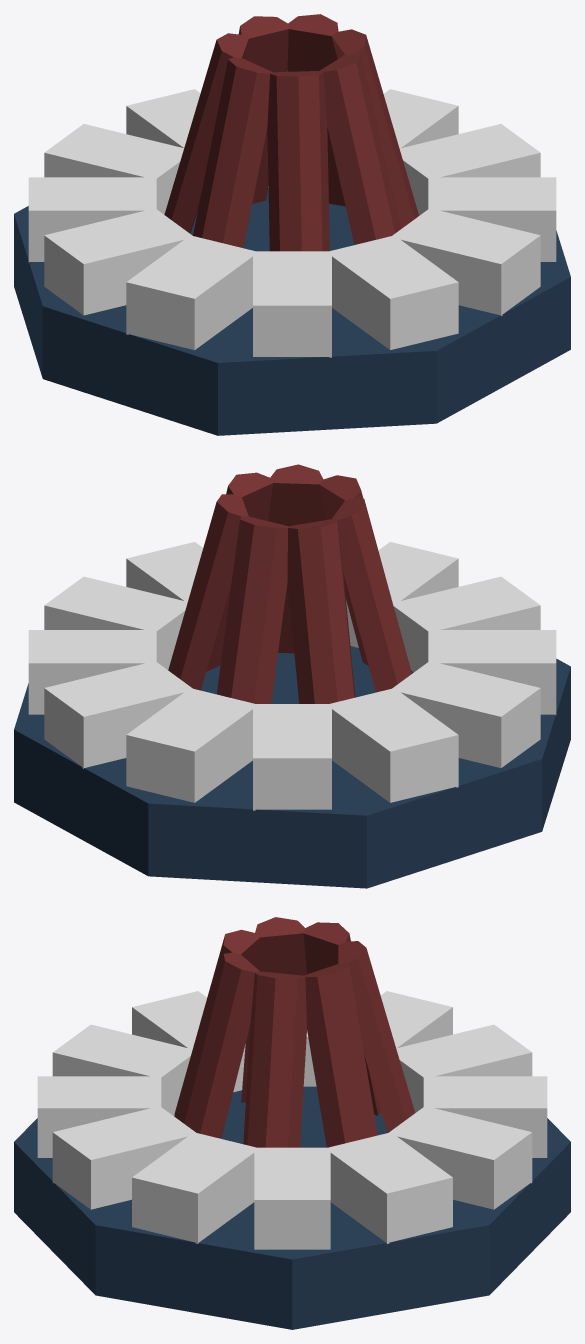
File: bonfire_3.FBX
3 renders of one model, top to bottom at view 1: azimuth 30°, elevation 25°; view 2: azimuth 150°, elevation 25°; view 3: azimuth 270°, elevation 25°, orthographic. The views are drawn at different scales.
Visible parts, largest first — view 1: bonfire_3; view 2: bonfire_3; view 3: bonfire_3.
Boxes of the visible parts, x1,y1,x2,y2 form: bonfire_3: (14,14,570,435); bonfire_3: (14,464,570,888); bonfire_3: (14,917,570,1329).
Size of the model in its own units: 1.58 by 0.8292 by 1.58.
Materials: 1 (1 with a texture image).
